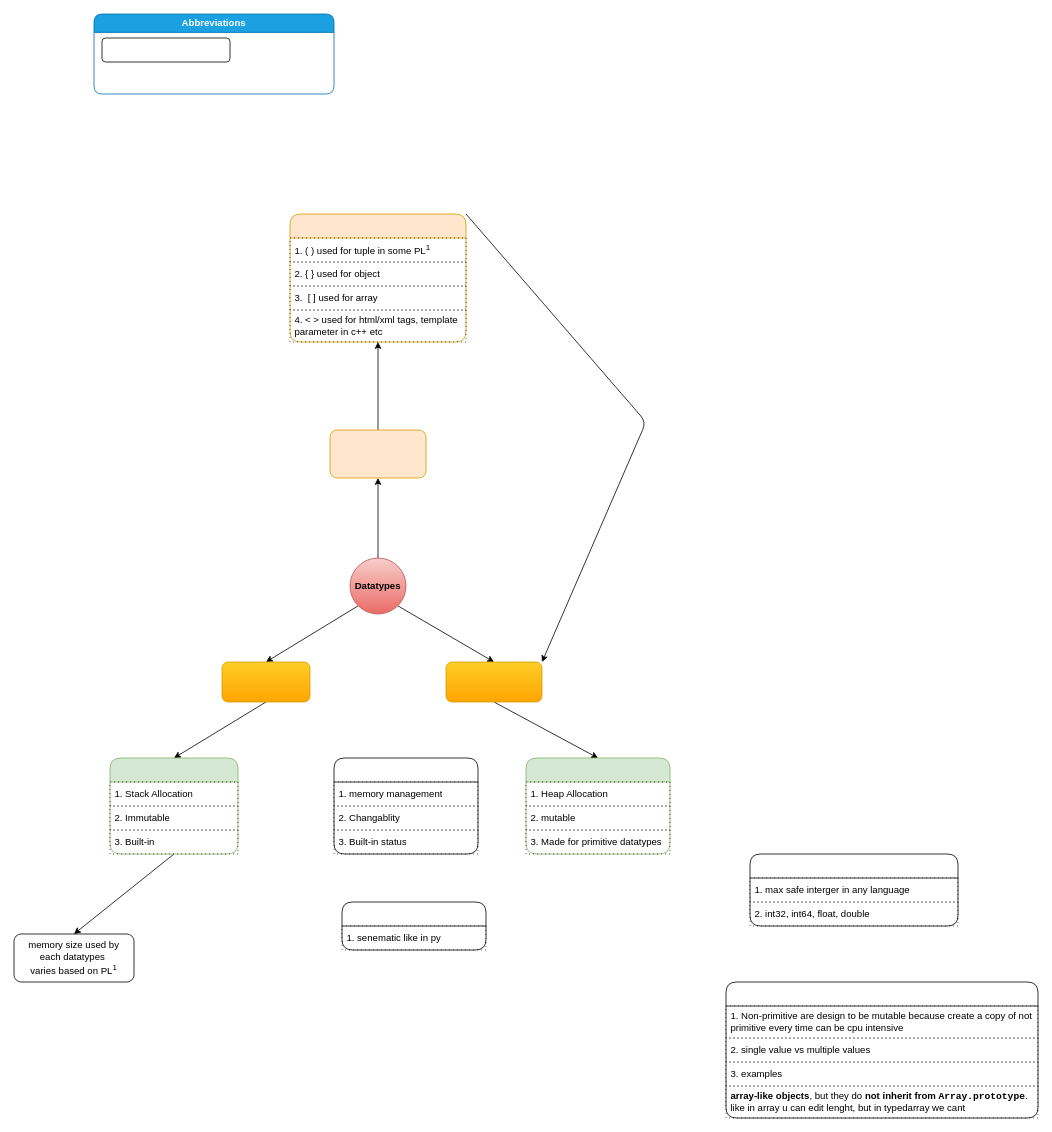
Image size: 1052x1132. Some labels were removed from this diagram. Each missing label, with the box of its shape:
1. PL = programming lang: (101, 37, 230, 62)
Brackets: (289, 213, 466, 342)
doubts: (725, 981, 1038, 1118)
factors: (333, 757, 478, 854)
MAX_SAFE_INTEGER (types): (749, 853, 958, 926)
Non-Primitive Datatypes: (445, 661, 542, 702)
Other factors: (341, 901, 486, 950)
Primitive Datatypes: (221, 661, 310, 702)
Types of Brackets we have: (329, 429, 426, 478)
why do we call Non-primitive: (525, 757, 670, 854)
why do we call primitive: (109, 757, 238, 854)
